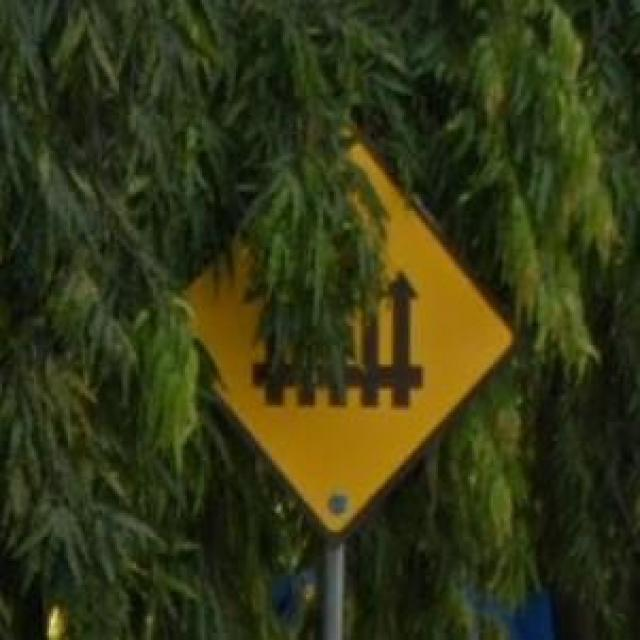traffic sign: (389, 187, 512, 468)
